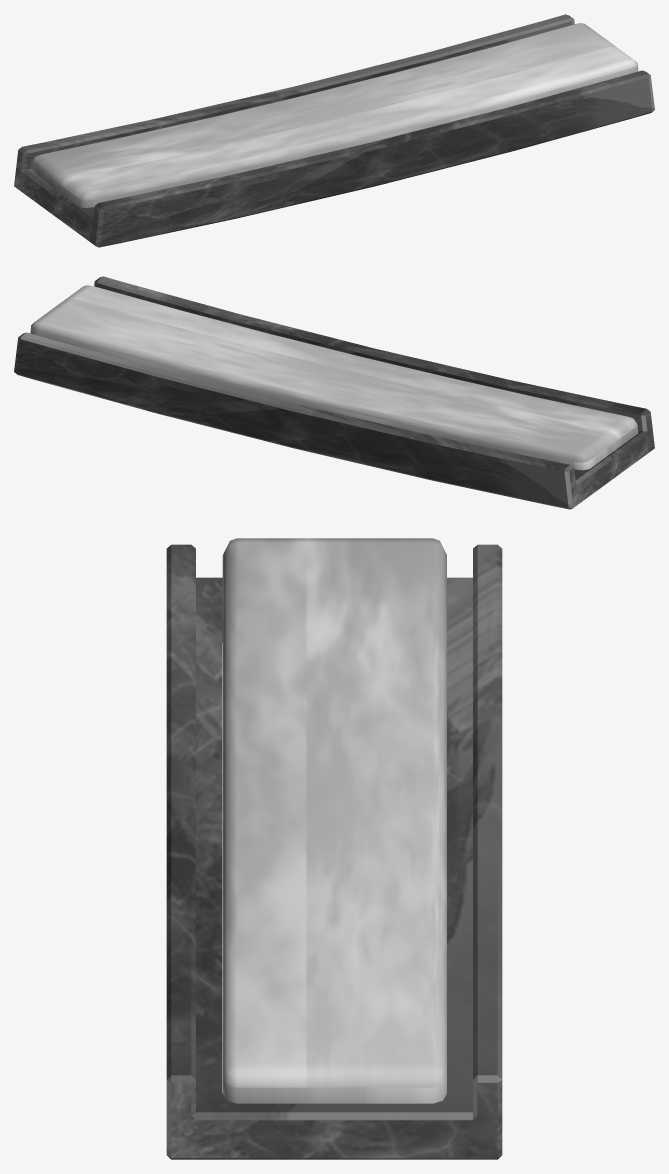
The model's file is HpGauge.fbx.
3 renders of one model, top to bottom at view 1: azimuth 30°, elevation 25°; view 2: azimuth 150°, elevation 25°; view 3: azimuth 270°, elevation 25°, orthographic. The views are drawn at different scales.
Visible parts, largest first — view 1: LOD_1_Group_0_Sub_3__HPgauge, LOD_1_Group_0_Sub_1__HPgaugeBase; view 2: LOD_1_Group_0_Sub_3__HPgauge, LOD_1_Group_0_Sub_1__HPgaugeBase; view 3: LOD_1_Group_0_Sub_3__HPgauge, LOD_1_Group_0_Sub_1__HPgaugeBase.
Part boxes in pixels (x1=…): LOD_1_Group_0_Sub_3__HPgauge: x1=30, y1=23, x2=638, y2=207; LOD_1_Group_0_Sub_1__HPgaugeBase: x1=14, y1=14, x2=654, y2=247; LOD_1_Group_0_Sub_3__HPgauge: x1=30, y1=285, x2=638, y2=470; LOD_1_Group_0_Sub_1__HPgaugeBase: x1=14, y1=276, x2=654, y2=509; LOD_1_Group_0_Sub_3__HPgauge: x1=222, y1=538, x2=446, y2=1103; LOD_1_Group_0_Sub_1__HPgaugeBase: x1=166, y1=544, x2=502, y2=1159.
Bounding box in the file's own units: 73.7 × 6.2 × 19.16.
